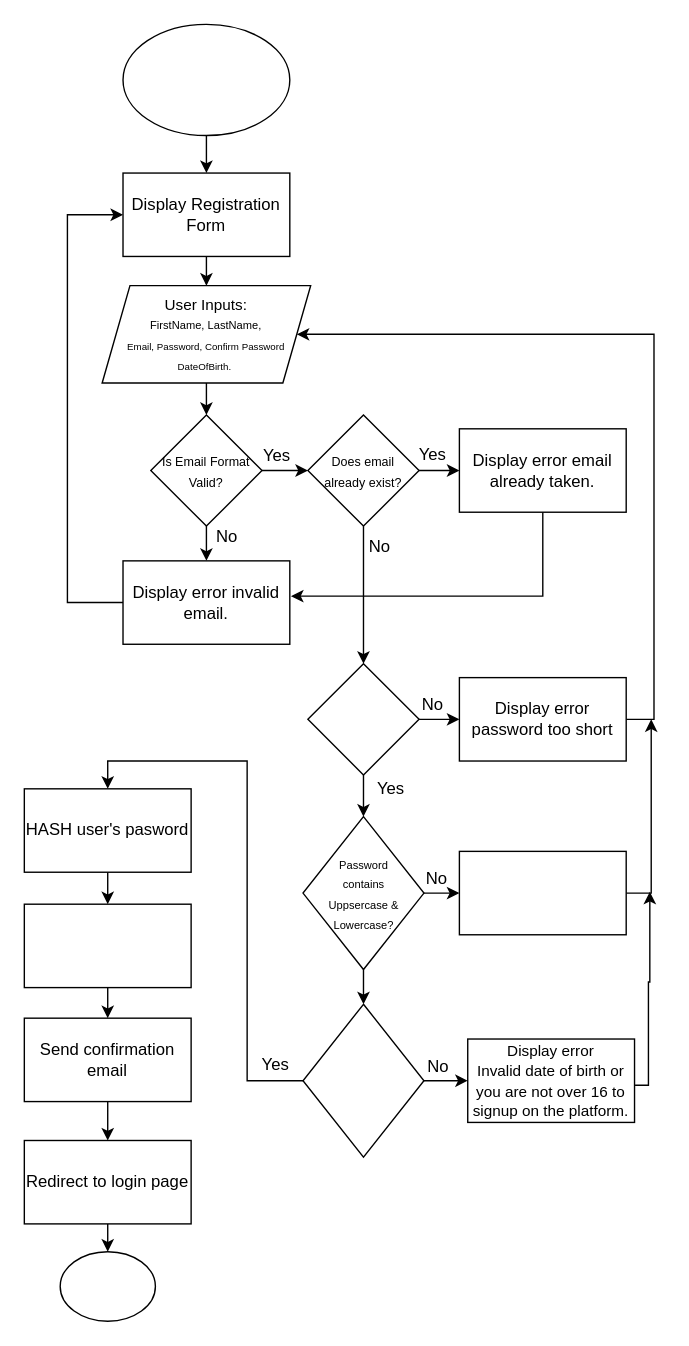
Some shapes in this 689 by 1346 pixel diagram are drawn without their labels. The shapes that lost their labels are listed below. From the top down, each one's box as (x1, y1, x2, y2) in pixels, then its label:
(122, 23, 290, 136): Star t
(306, 662, 419, 775): Password length >= 8
(458, 850, 626, 935): Display error password too weak.
(23, 903, 191, 988): Create user's password in db
(302, 1003, 424, 1157): is DateOfBirth Valid & over 16?
(59, 1250, 155, 1321): End
